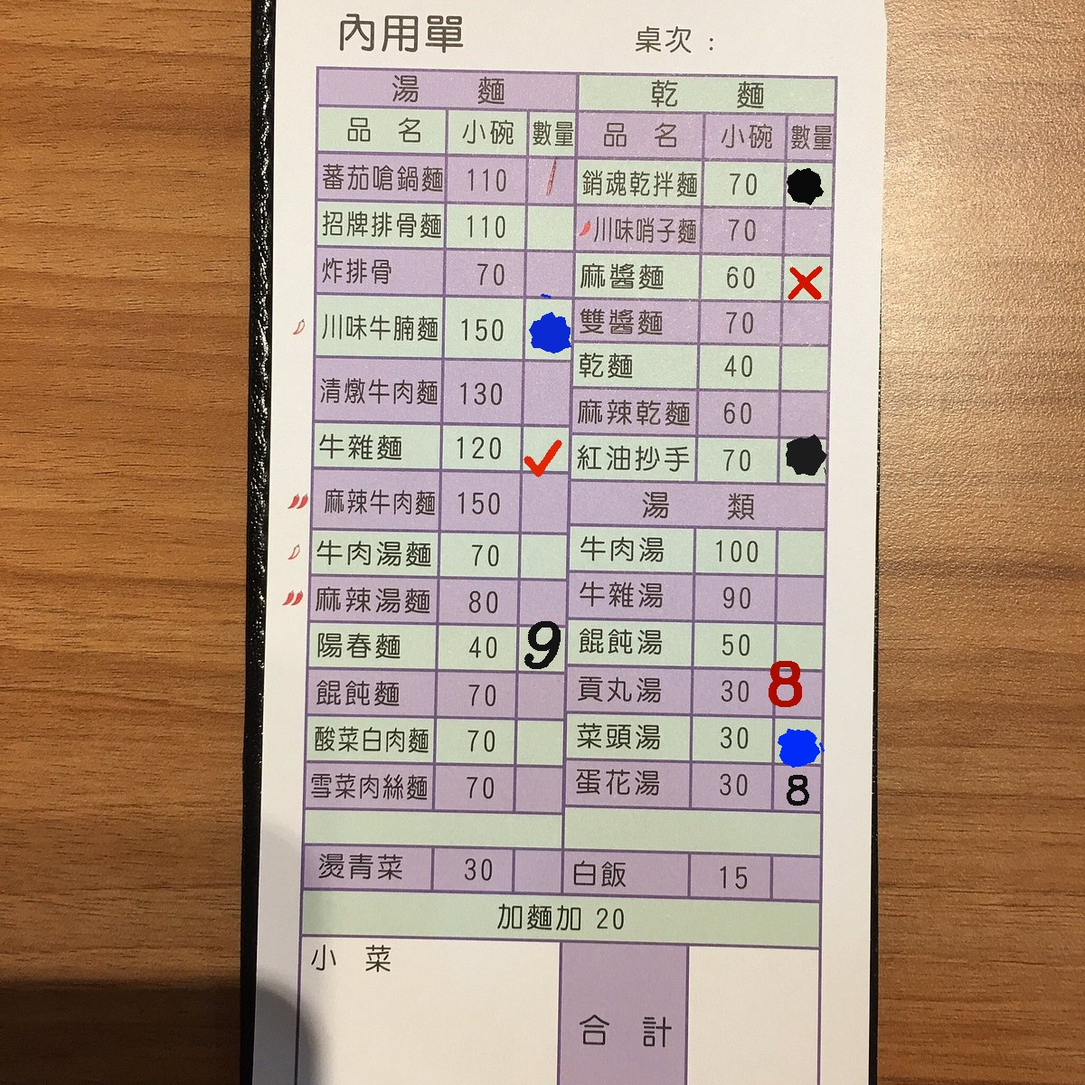marked_circle: (524, 297, 570, 359), (786, 159, 834, 205), (778, 436, 826, 482), (772, 716, 820, 762)
marked_number_8: (772, 670, 820, 716), (772, 765, 820, 811)
marked_number_9: (517, 623, 565, 669)
marked_tick: (520, 426, 568, 472)
marked_x: (780, 255, 828, 301)
